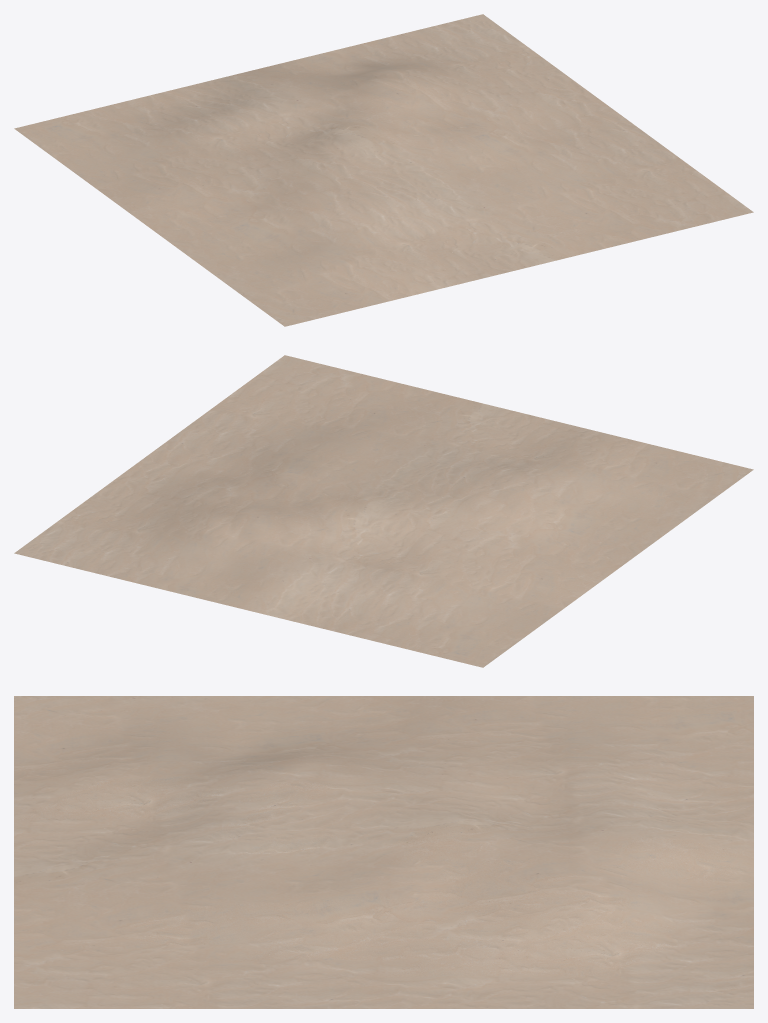
File: sand.glb
3 renders of one model, top to bottom at view 1: azimuth 30°, elevation 25°; view 2: azimuth 150°, elevation 25°; view 3: azimuth 270°, elevation 25°, orthographic. The views are drawn at different scales.
Parts seen in each view (by area): view 1: defaultobject; view 2: defaultobject; view 3: defaultobject.
Boxes of the visible parts, x1,y1,x2,y2 form: defaultobject: (14, 14, 753, 326); defaultobject: (14, 355, 753, 667); defaultobject: (14, 696, 753, 1008).
Bounding box in the file's own units: 1000 × 41.35 × 1000.
Materials: 1 (1 with a texture image).
